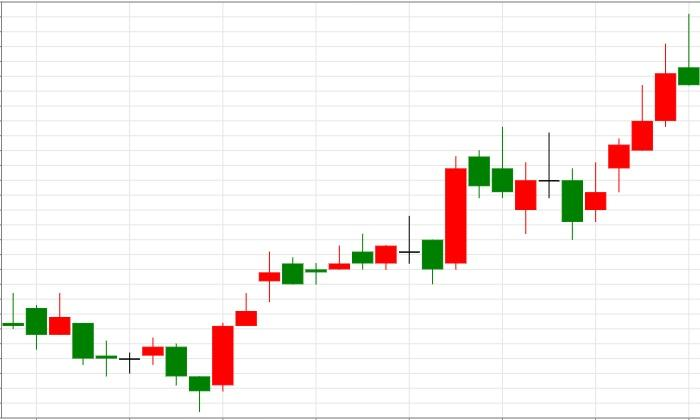three_white_soldiers_rise: (2, 251, 281, 411)
